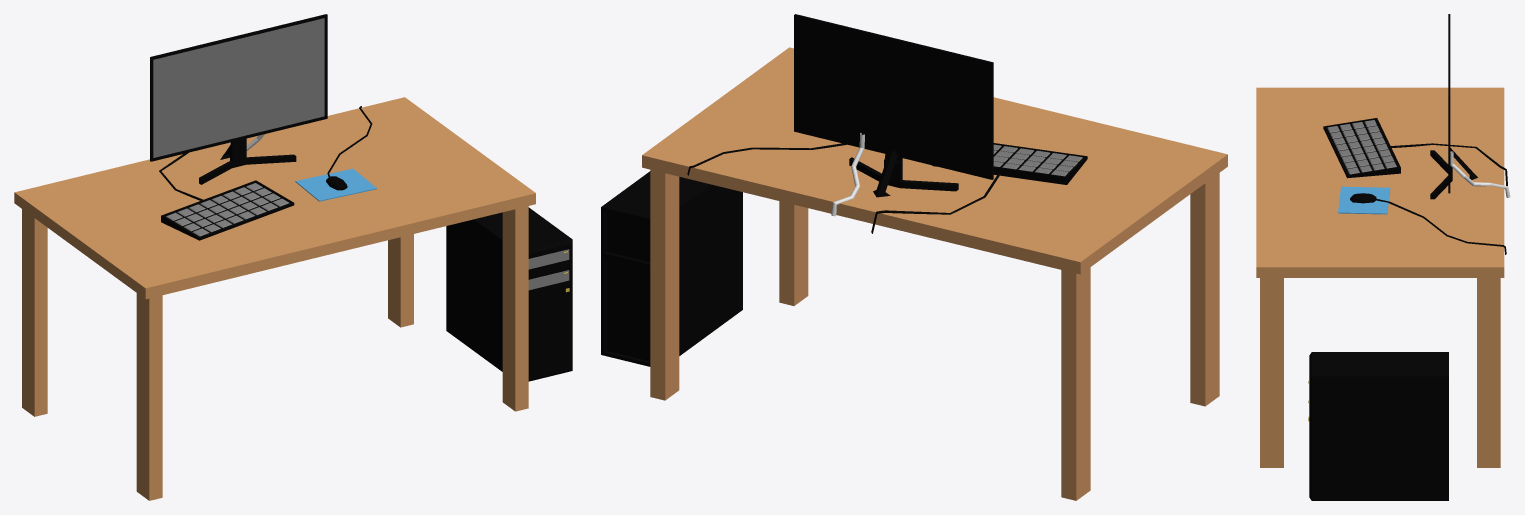
The model's file is DesktopWithComputer.fbx.
3 views of the same model, side by side, from view 1: azimuth 30°, elevation 25°; view 2: azimuth 150°, elevation 25°; view 3: azimuth 270°, elevation 25° (orthographic). The views are drawn at different scales.
Visible parts, largest first — view 1: desktop, monitor, computer, keyboard, m_pad; view 2: desktop, monitor, computer, keyboard; view 3: desktop, computer, keyboard, m_pad, monitor, monitor_cable, mouse_cable, keyboard_cable.
Boxes of the visible parts, x1,y1,x2,y2 form: desktop: (14,97,535,500); monitor: (150,14,327,184); computer: (446,207,572,381); keyboard: (161,180,294,240); m_pad: (295,168,376,201); desktop: (642,47,1227,500); monitor: (794,14,993,197); computer: (601,171,742,366); keyboard: (932,143,1087,184); desktop: (1256,87,1504,467); computer: (1308,352,1448,500); keyboard: (1323,118,1400,178); m_pad: (1338,186,1390,214); monitor: (1430,14,1477,199); monitor_cable: (1450,151,1510,197); mouse_cable: (1376,199,1506,254); keyboard_cable: (1391,143,1507,185).
Size of the model in its own units: 2.34 by 1.19 by 1.69.
